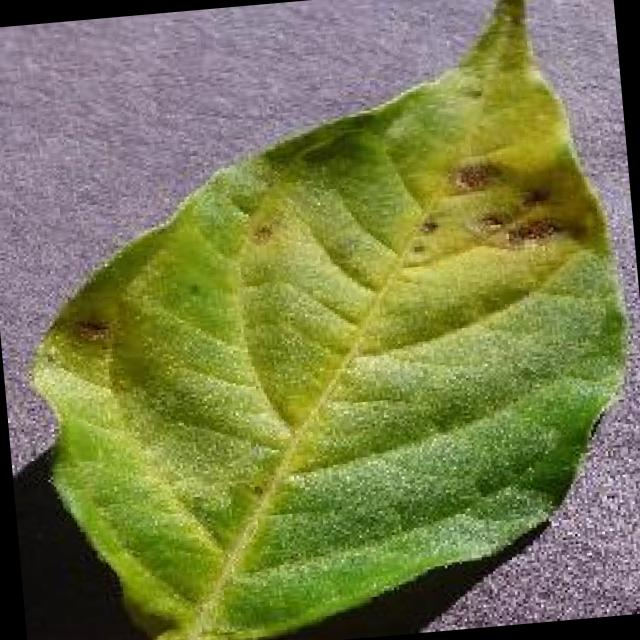Chilli_Bacterial_Spot: (0, 0, 640, 640), (391, 140, 603, 272), (234, 187, 294, 254), (447, 156, 507, 196), (504, 212, 562, 248), (66, 310, 112, 350), (484, 0, 530, 29), (468, 206, 508, 239), (514, 180, 554, 210), (244, 214, 278, 248), (398, 236, 433, 266), (411, 212, 441, 239)
